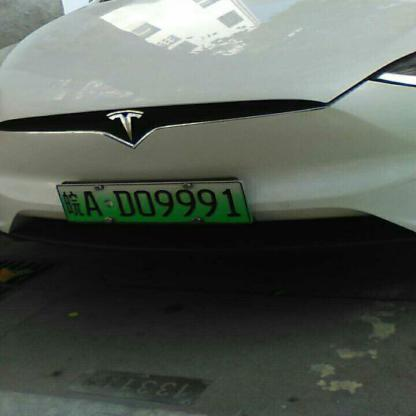lp: (56, 182, 67, 223)
